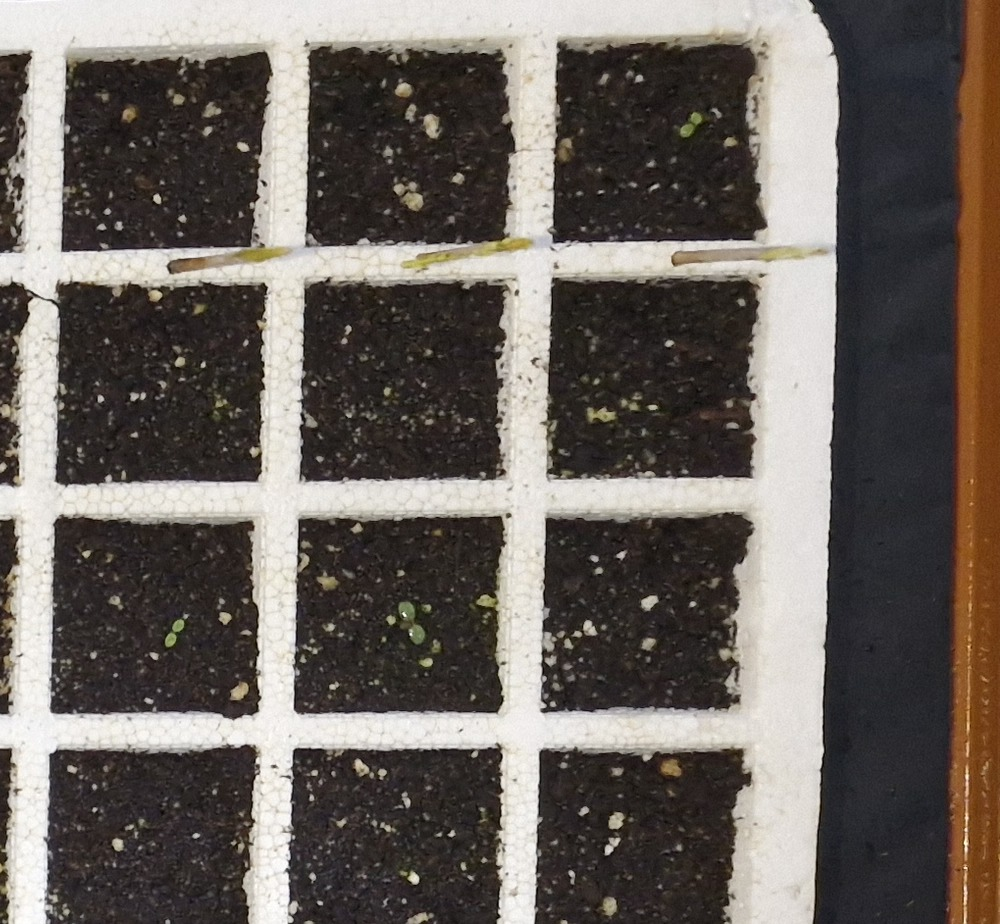Folha: (680, 123, 694, 138), (690, 112, 702, 126)
Germinacao: (680, 112, 702, 138)
